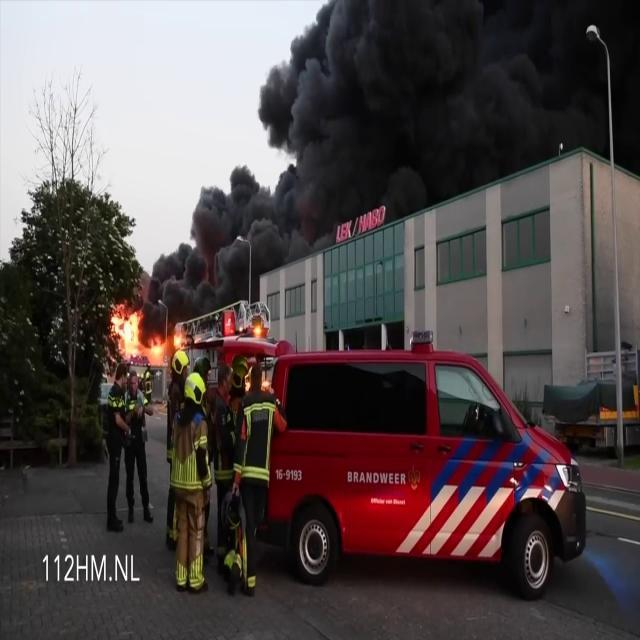Fire: (106, 303, 168, 365)
Smoke: (165, 0, 640, 299)
